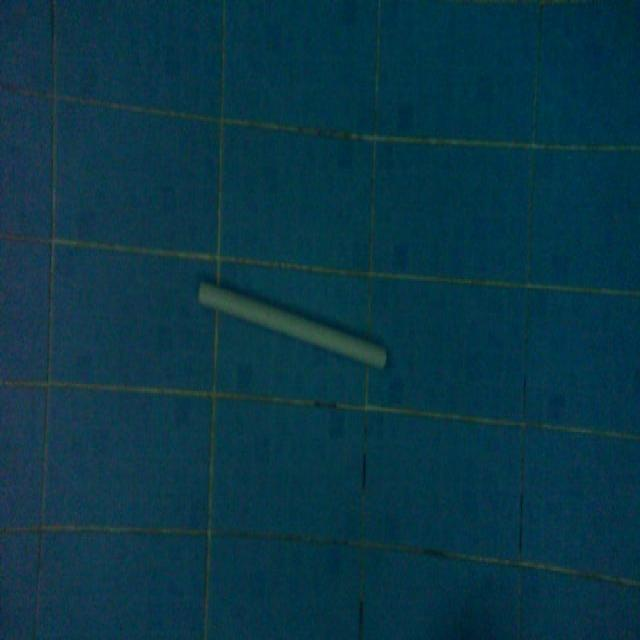Cube: (196, 274, 389, 375)
